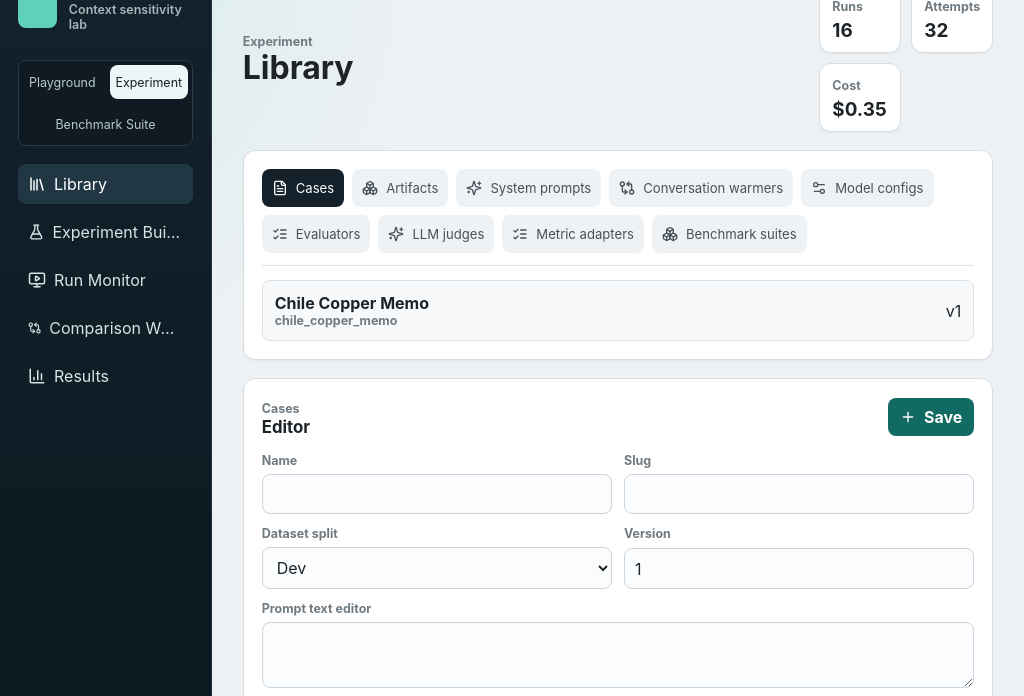
Test: App experiment builder › loads preprocessing history and derived artifacts when inspecting an artifact
Click the tab "Artifacts". click: (400,188)
box: left=352, top=169, right=448, bottom=207
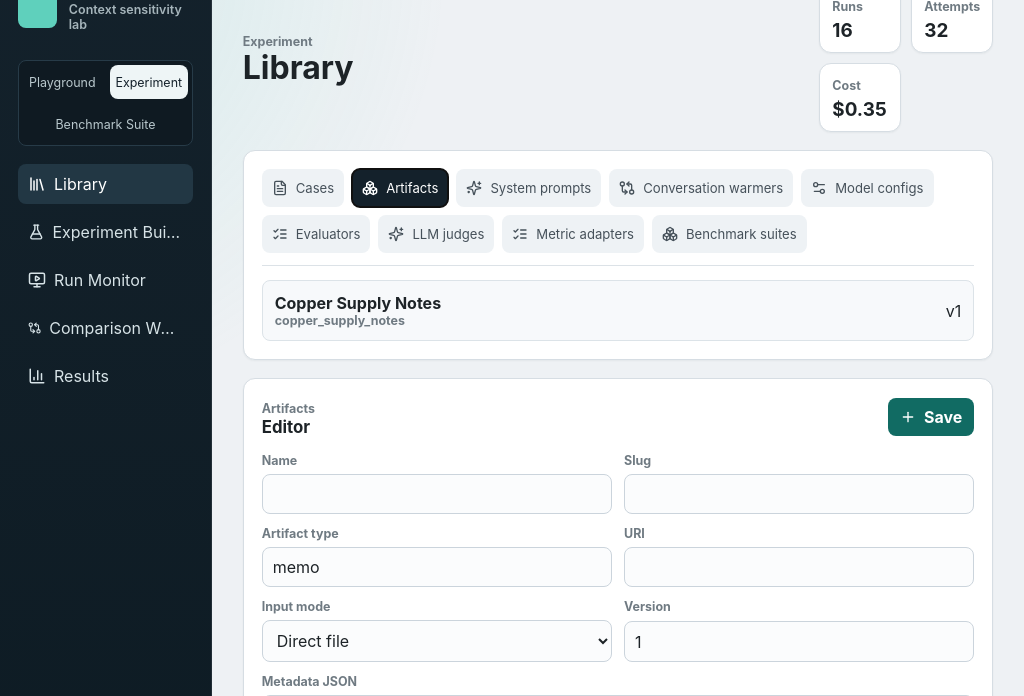
Click the button "Copper Supply Notes copper_supply_notes v1". click: (358,303)
box: left=262, top=280, right=974, bottom=341
(page scrolled)
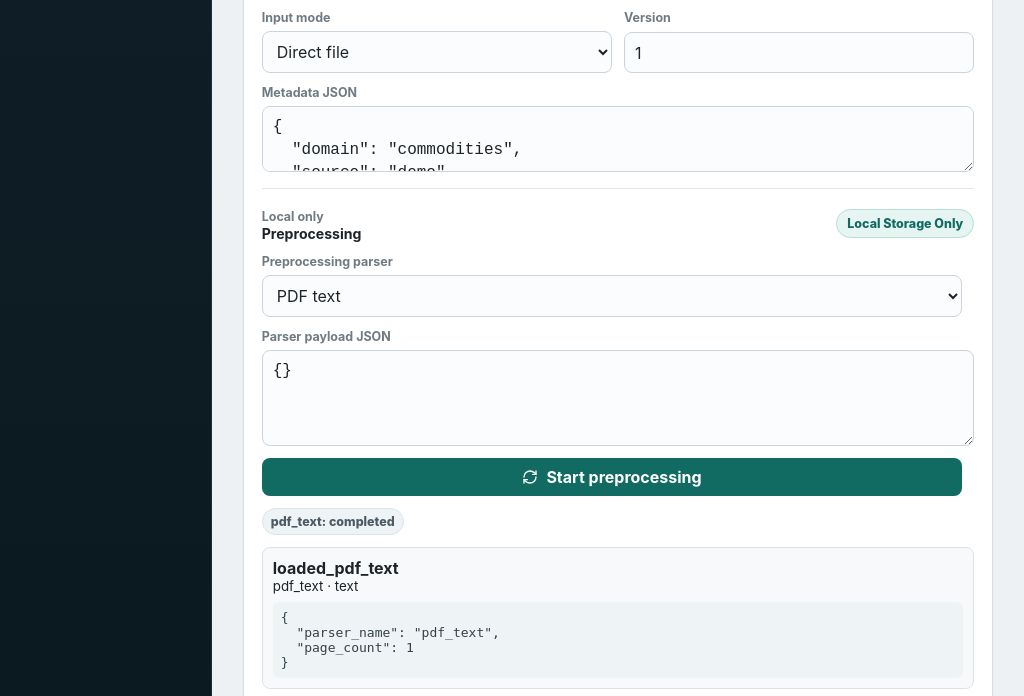
expect the text "pdf_text: completed" is shown: met, box left=262, top=508, right=404, bottom=535
